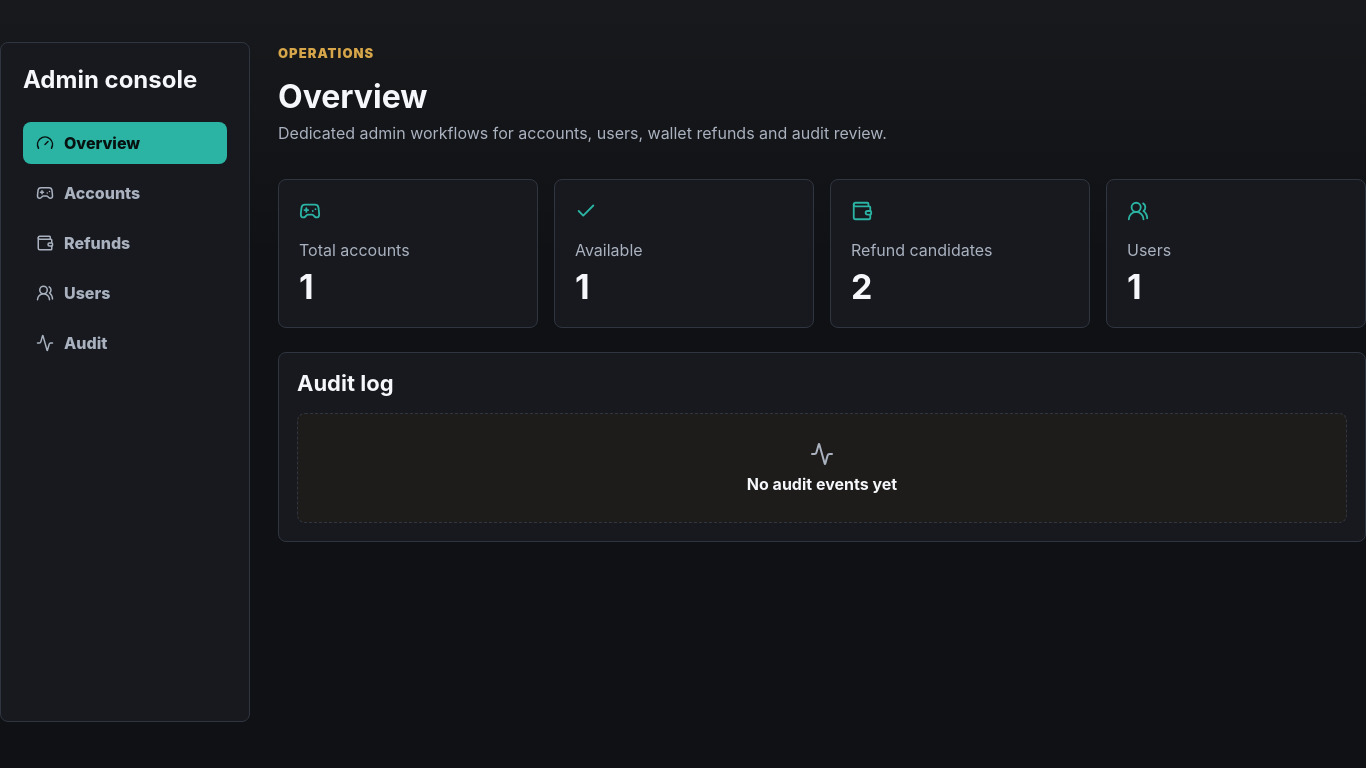
Test: AdminView balance adjustments › requires a reason before showing confirmation
Click the button "Users" at (125, 293), box [23,272,227,314]
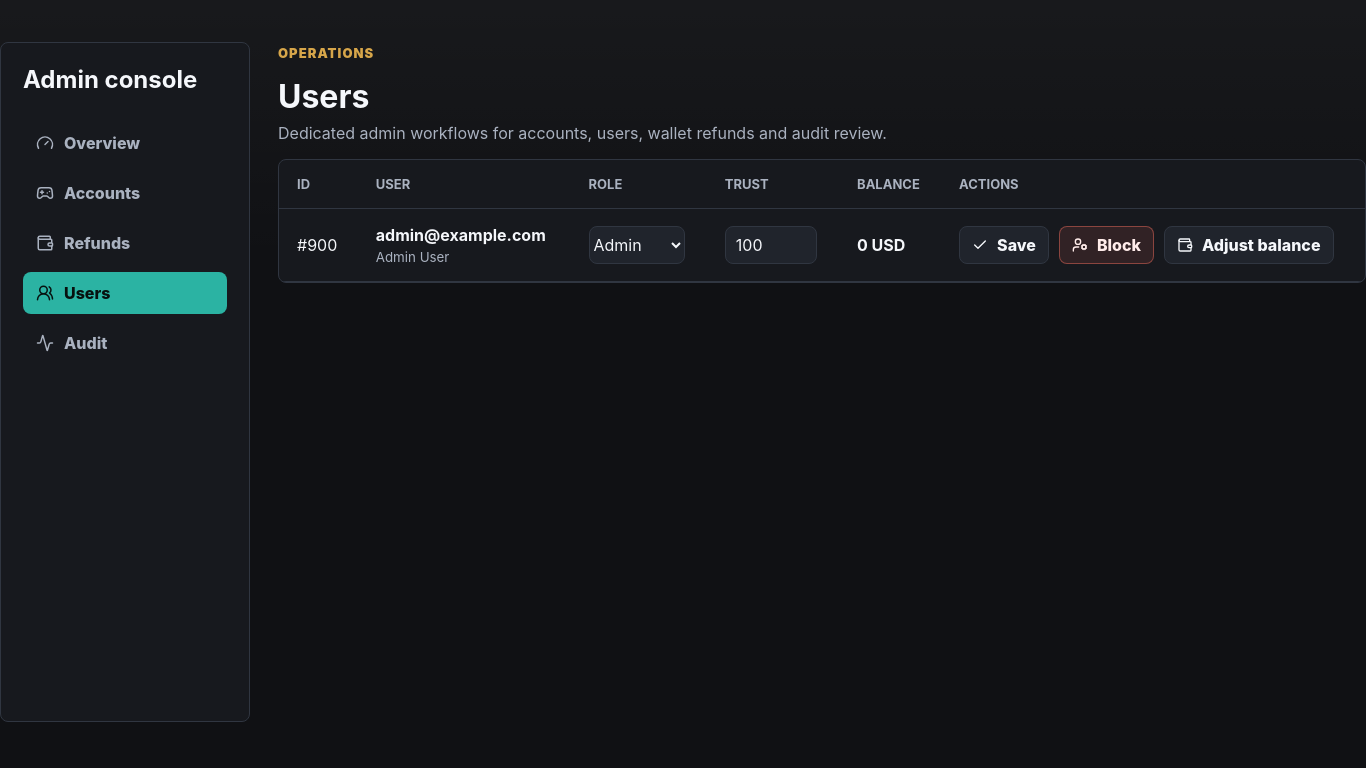
Click the button "Adjust balance" at (1249, 245), box [1164,226,1334,264]
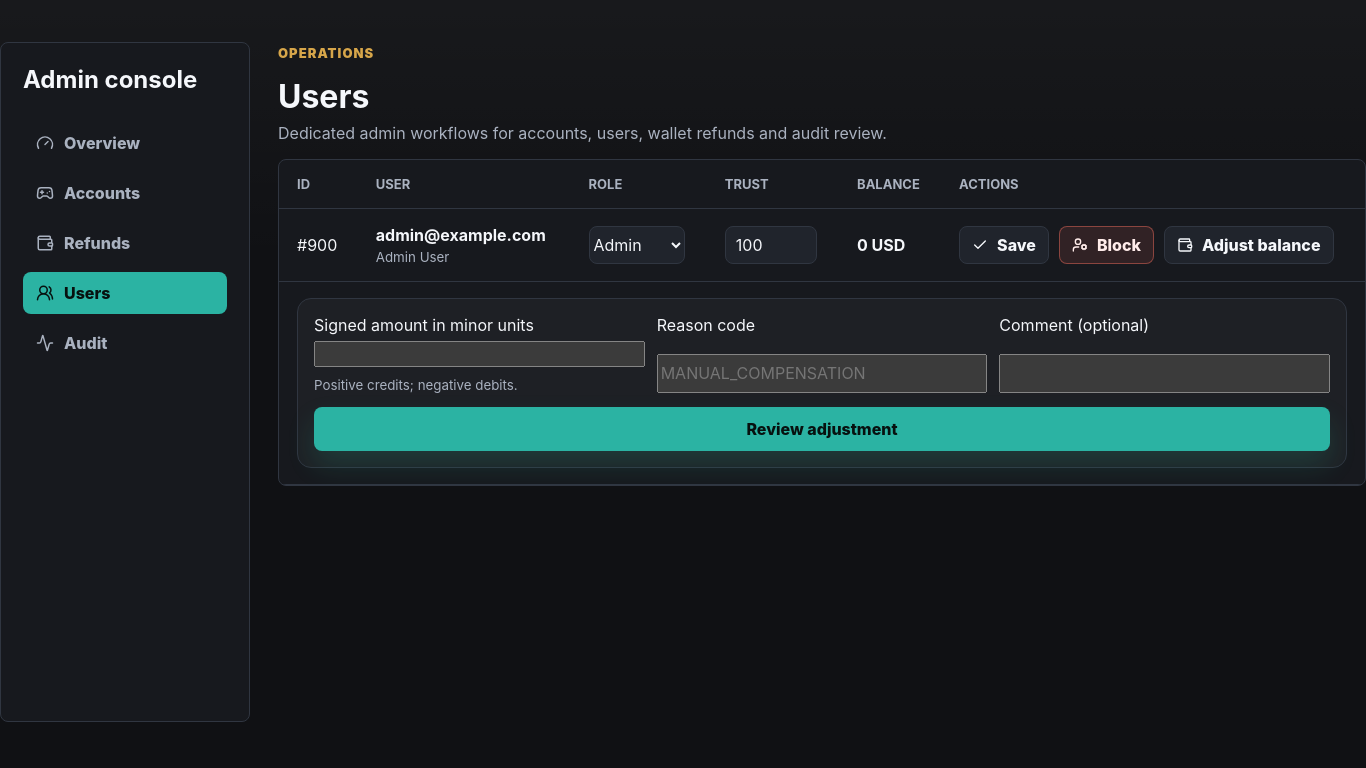
Type "500" into the number field named "Balance adjustment amount for admin@example.com" at (479, 354), box [314,341,645,367]
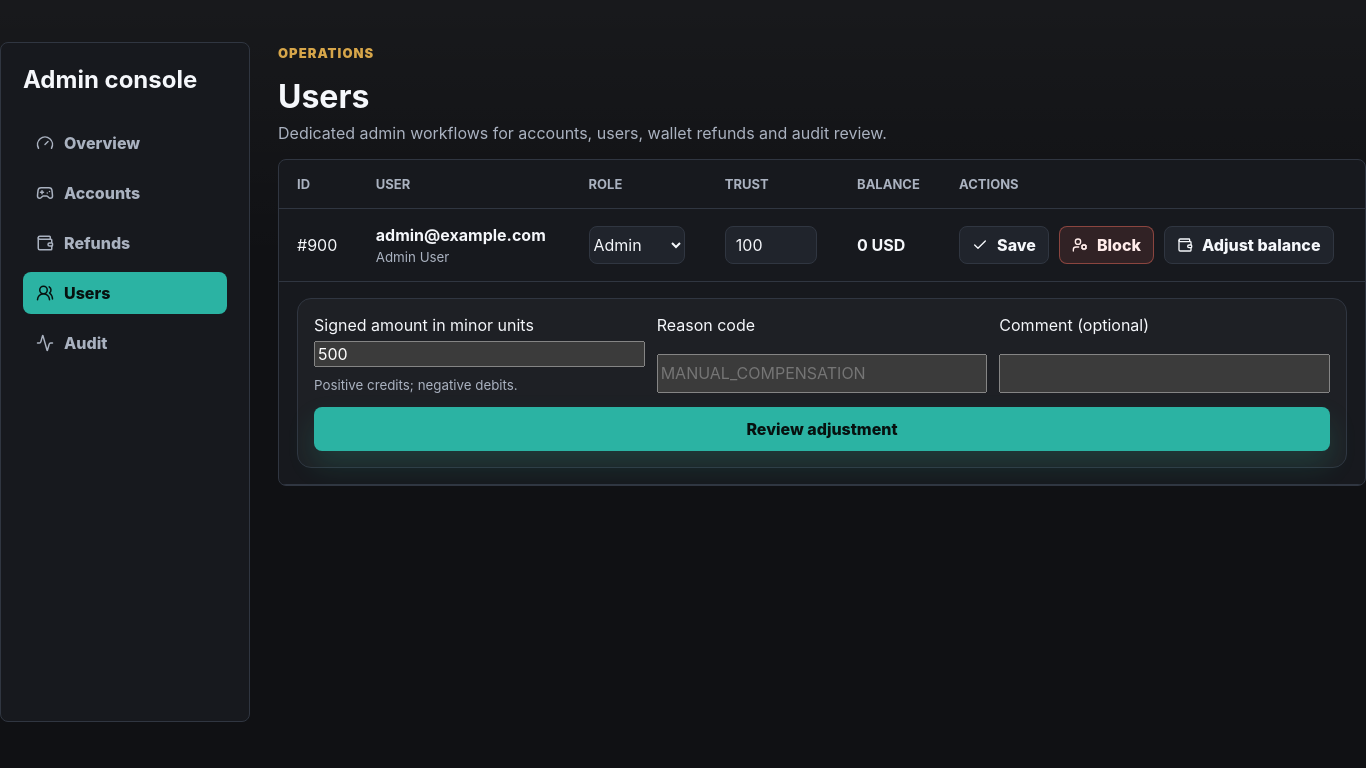
Click the button "Review adjustment" at (822, 429), box [314,407,1330,451]
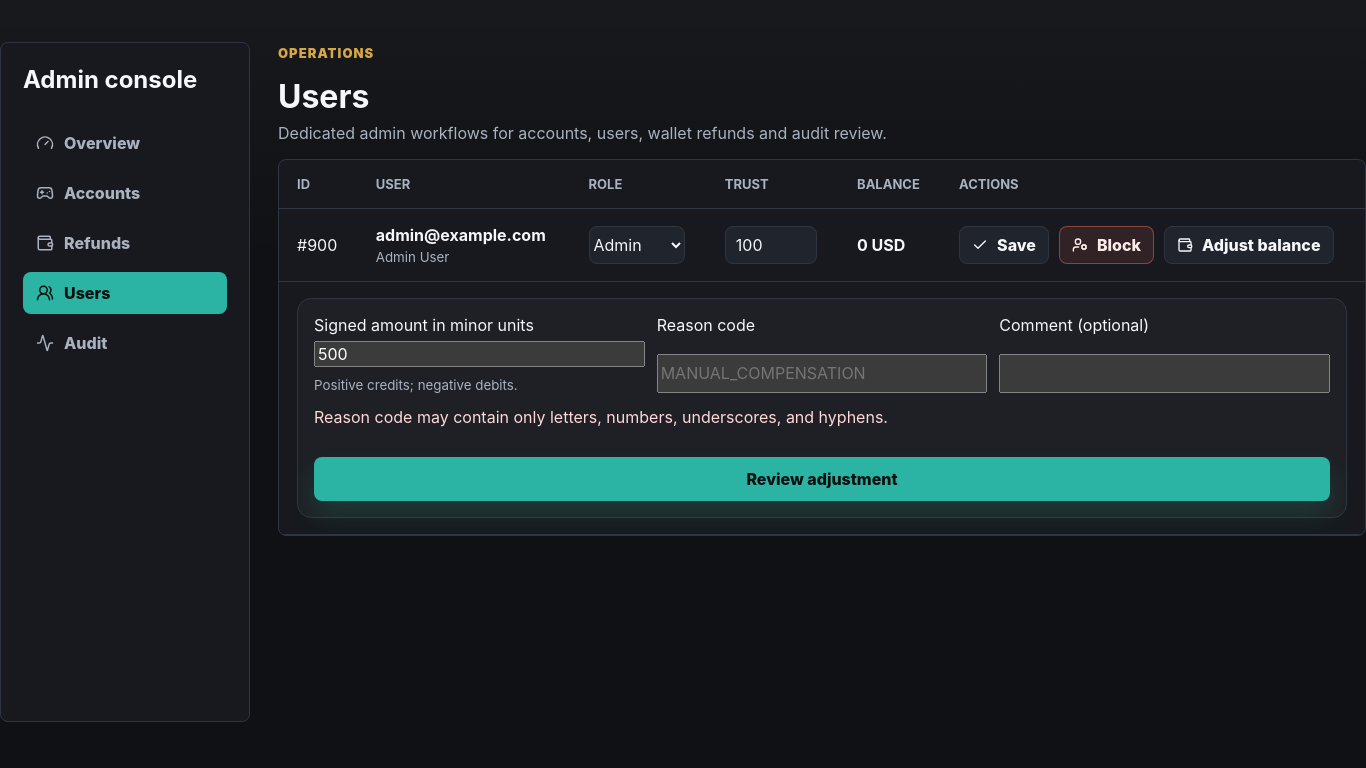
expect the text "Reason code may contain only letters, numbers, underscores, and hyphens." is shown: met, box [314,407,888,427]
